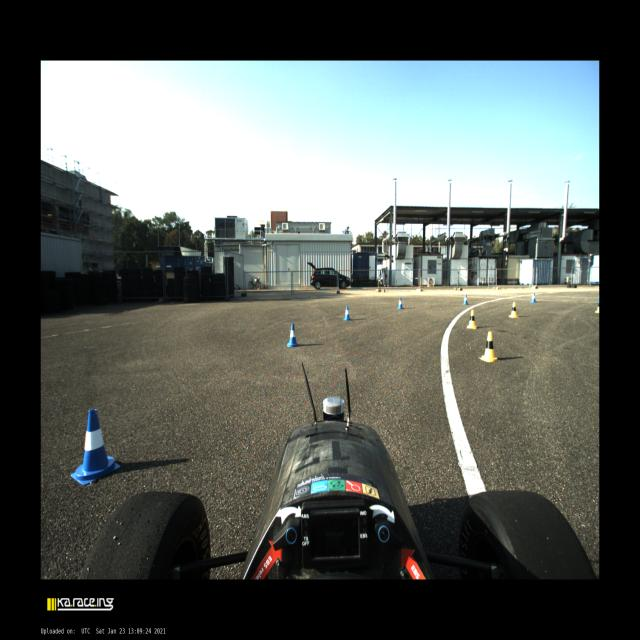blue_cone: (71, 409, 120, 485), (287, 323, 299, 347), (343, 306, 352, 320), (462, 294, 469, 304), (530, 292, 536, 303), (398, 297, 403, 309), (597, 295, 599, 302)
yellow_cone: (479, 332, 500, 362), (466, 310, 477, 328), (508, 302, 518, 318), (595, 302, 599, 312)
